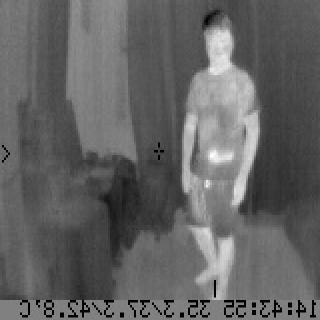Gun: (202, 150, 236, 190)
